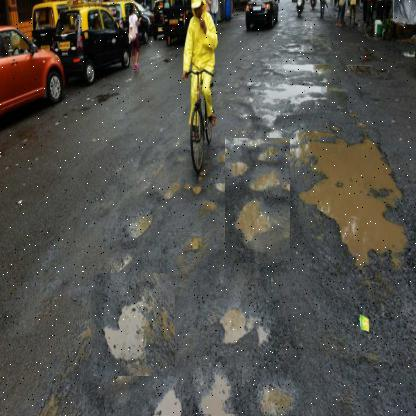pothole_water: (301, 97, 410, 283), (91, 273, 176, 377), (193, 356, 243, 415)
pothole_water_m: (225, 138, 291, 264)
